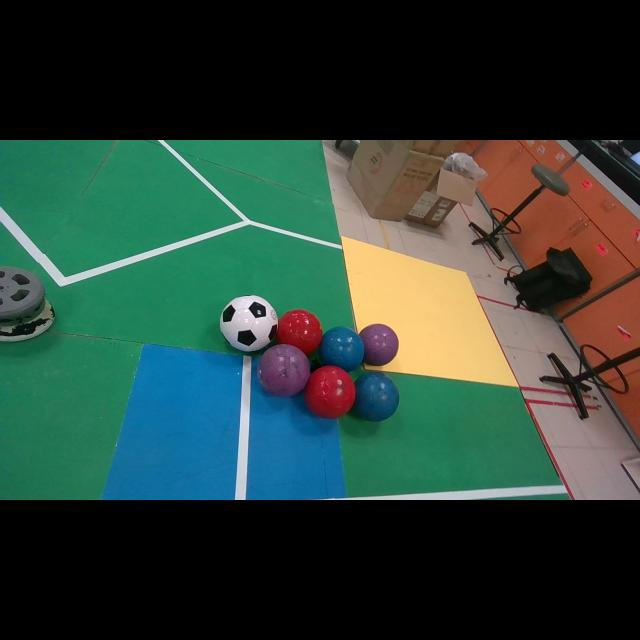B: (354, 372, 399, 421), (319, 326, 364, 371)
P: (258, 344, 310, 396), (359, 324, 399, 366)
R: (305, 365, 355, 418), (276, 310, 321, 355)
